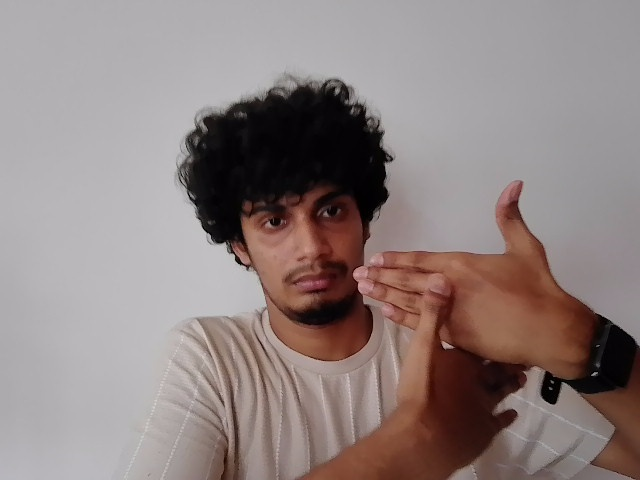work: (355, 176, 564, 445)
